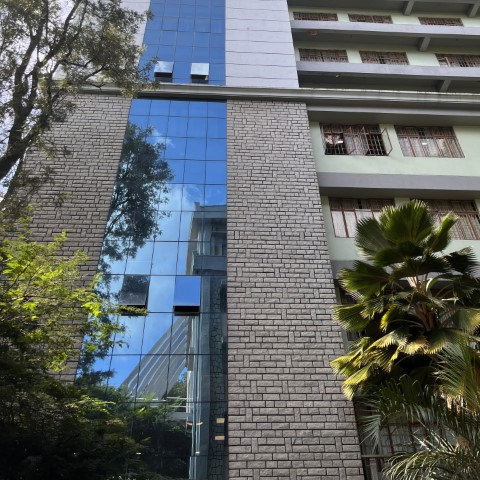Central Block: (48, 5, 480, 480)
